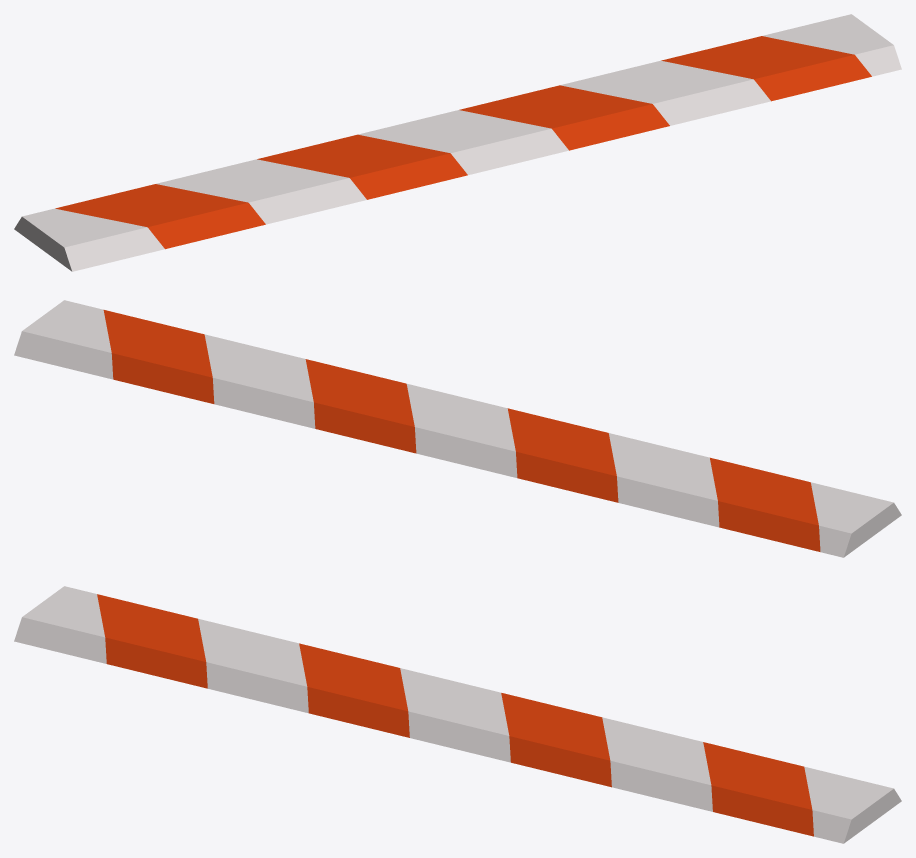
Rendered from prp_7.fbx.
3 renders of one model, top to bottom at view 1: azimuth 30°, elevation 25°; view 2: azimuth 150°, elevation 25°; view 3: azimuth 330°, elevation 25°, orthographic.
Parts seen in each view (by area): view 1: pPlane1; view 2: pPlane1; view 3: pPlane1.
Part boxes in pixels (box(x1,y1,x2,y2)): pPlane1: box(14, 14, 901, 271); pPlane1: box(14, 300, 901, 557); pPlane1: box(14, 586, 901, 843).
Size of the model in its own units: 7.35 by 0.1564 by 0.8946.
